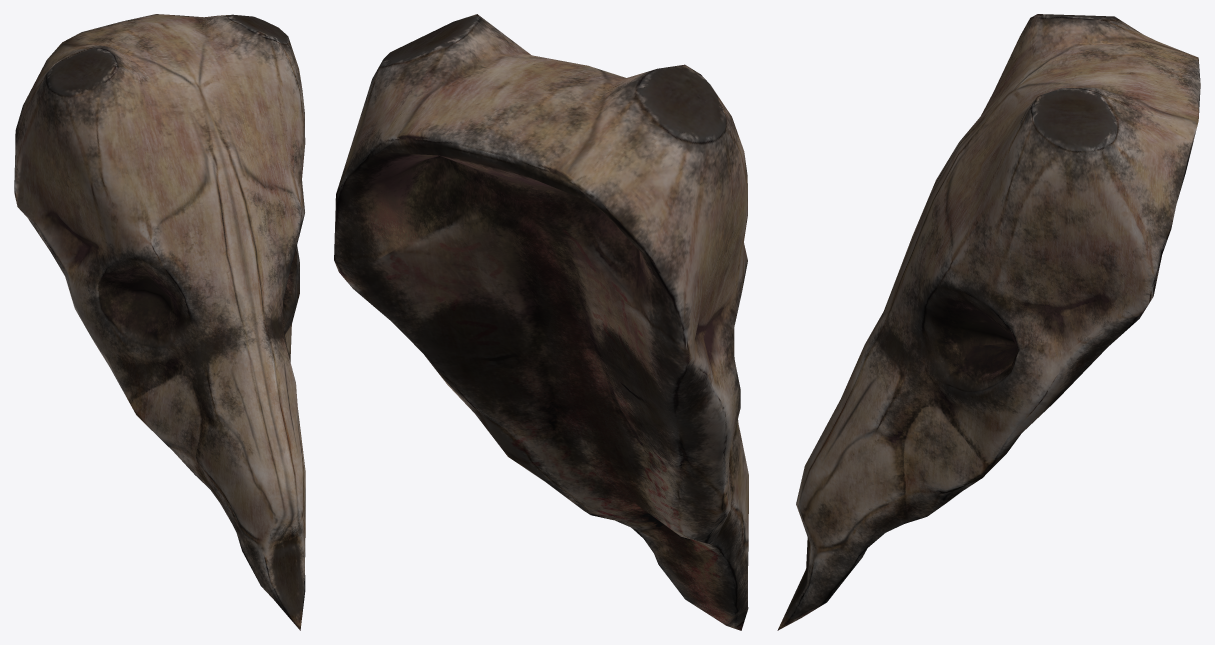
3 views of the same model, side by side, from view 1: azimuth 30°, elevation 25°; view 2: azimuth 150°, elevation 25°; view 3: azimuth 270°, elevation 25° (orthographic). The views are drawn at different scales.
Visible parts, largest first — view 1: Object_2; view 2: Object_2; view 3: Object_2.
Part boxes in pixels (x1,y1,x2,y2): Object_2: [14, 14, 305, 630]; Object_2: [334, 14, 748, 630]; Object_2: [777, 14, 1200, 630].
Bounding box in the file's own units: 0.5192 × 1 × 0.6628.
Materials: 1 (1 with a texture image).
